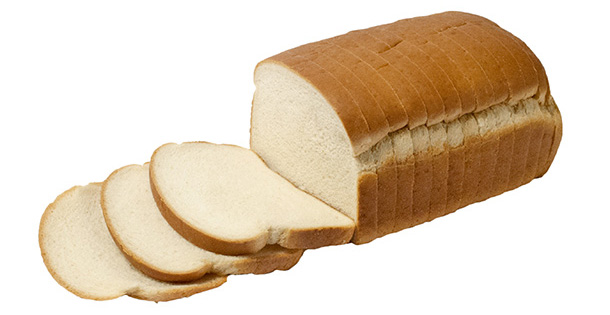slice of bread: (25, 18, 580, 291), (16, 136, 355, 304), (150, 137, 354, 253)
